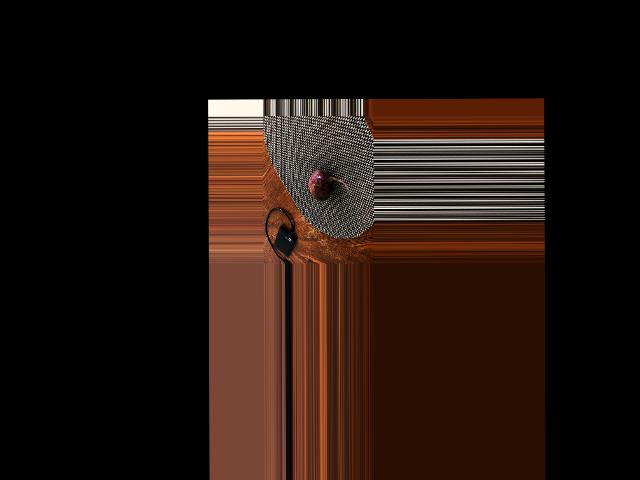beet: (309, 169, 350, 201)
